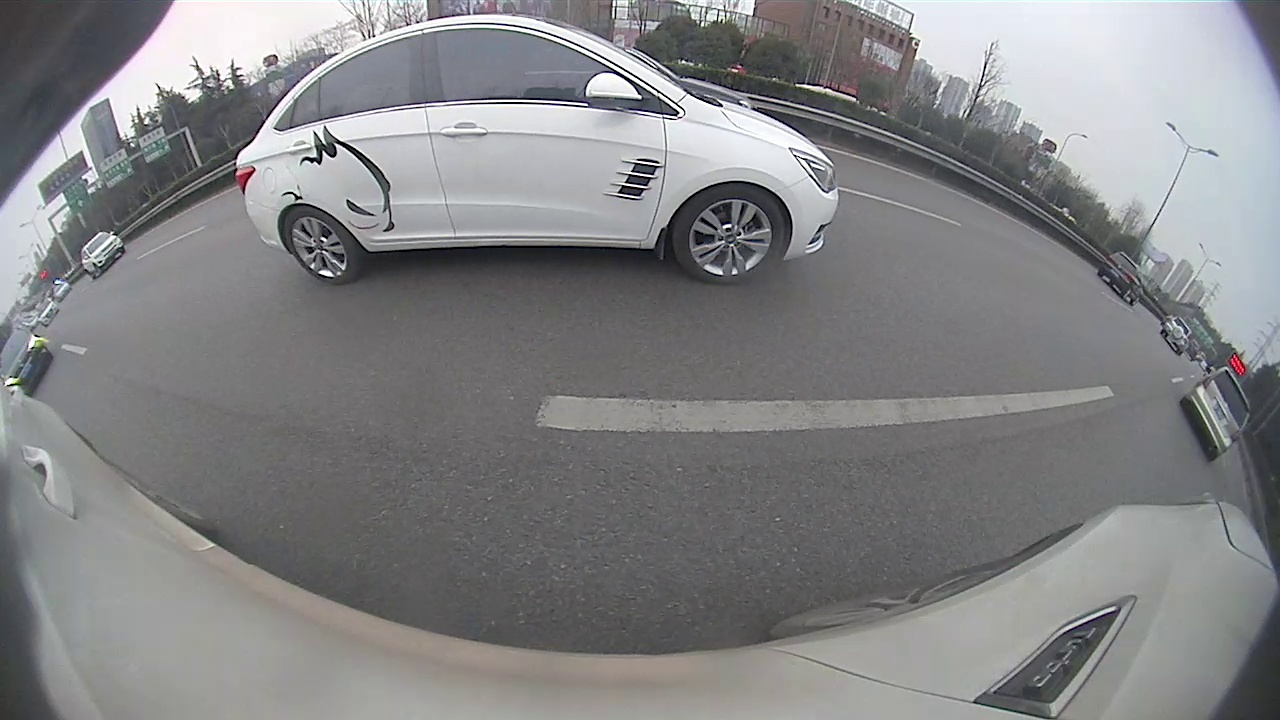car: (236, 14, 841, 286), (1179, 366, 1253, 463), (0, 327, 57, 401), (1097, 251, 1143, 306), (78, 231, 125, 280), (1161, 316, 1191, 355)
front: (667, 179, 793, 286)
rear: (281, 204, 370, 283)
